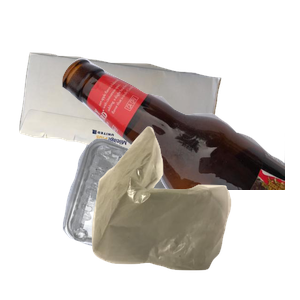glass: (60, 56, 300, 236)
paper: (17, 50, 231, 230)
plastic: (60, 136, 237, 300)
trash: (89, 124, 300, 300)
